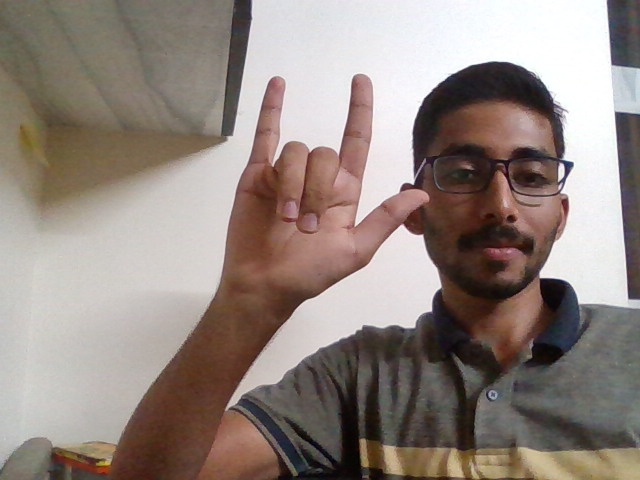Enjoy: (202, 61, 447, 330)
